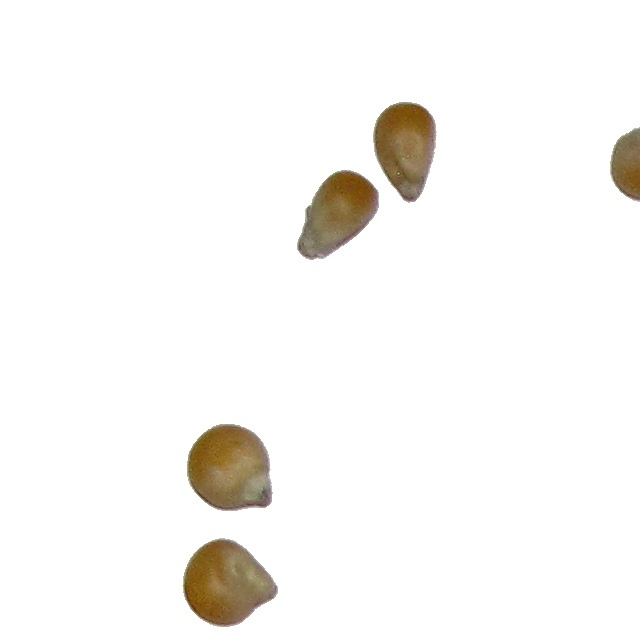mais: (181, 537, 279, 628), (186, 423, 274, 512), (296, 169, 380, 261), (372, 101, 438, 204), (609, 122, 640, 203)
